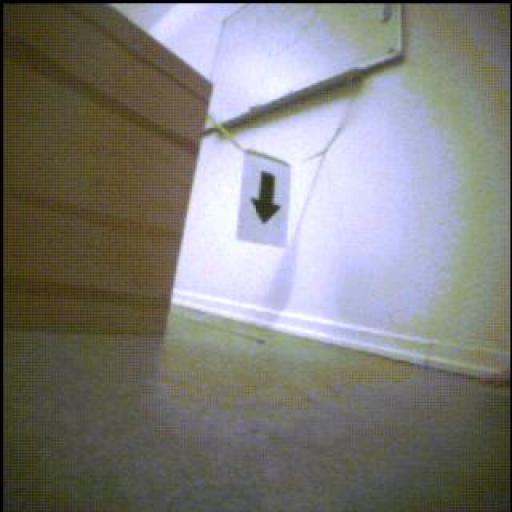arrow: (252, 173, 281, 224)
